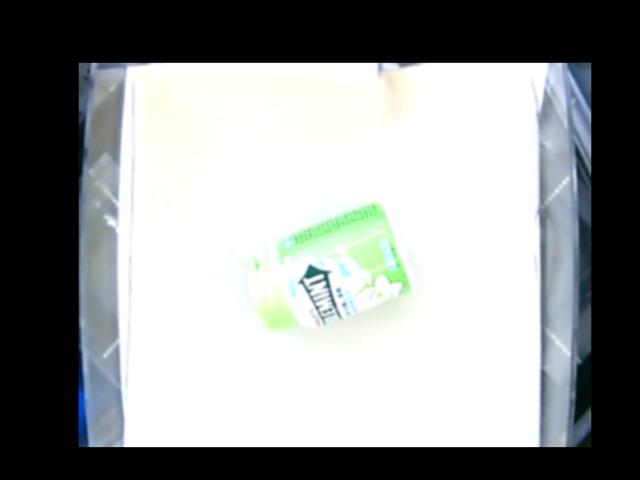Bottle: (246, 201, 413, 330)
